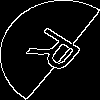R: (25, 25, 92, 81)
